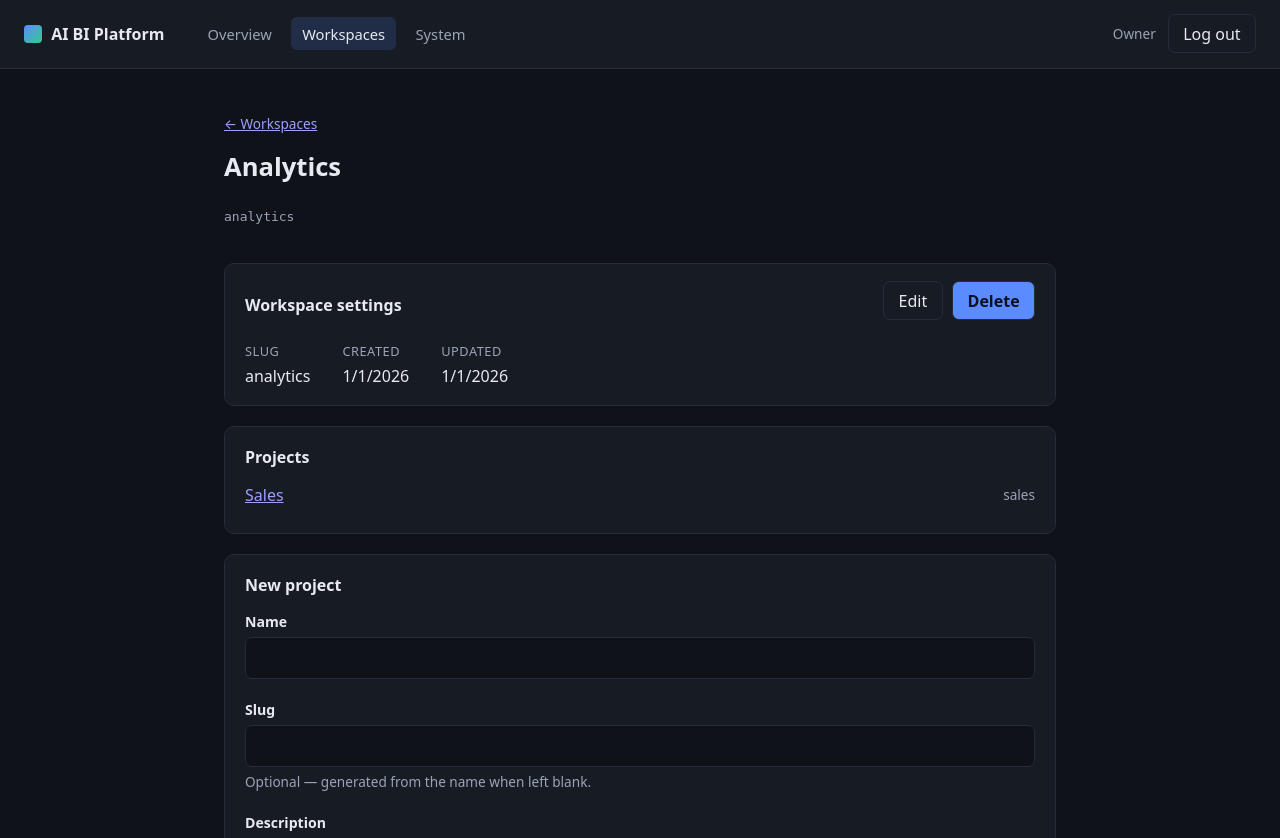
Test: WorkspaceDetailPage › updates the workspace
The width and height of the screenshot is (1280, 838).
Expected: the heading "Analytics" is shown, [224,149,341,184]
Click the button "Edit".
click(913, 300)  # box [883,281,943,320]
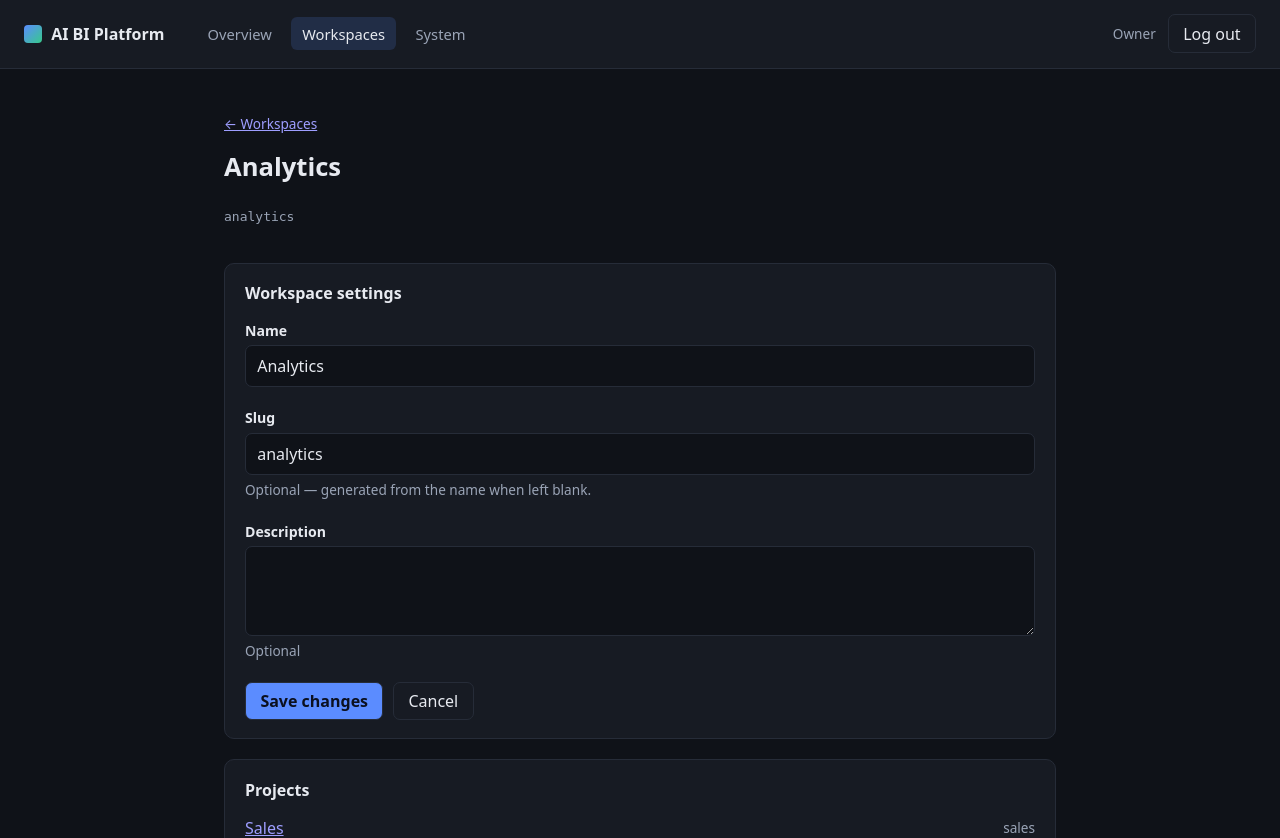
// The page also renders a "new project" form, so scope to the edit form.
Replace the text in the field labelled "Name" with "Renamed" at (640, 366), box [245,345,1035,387]
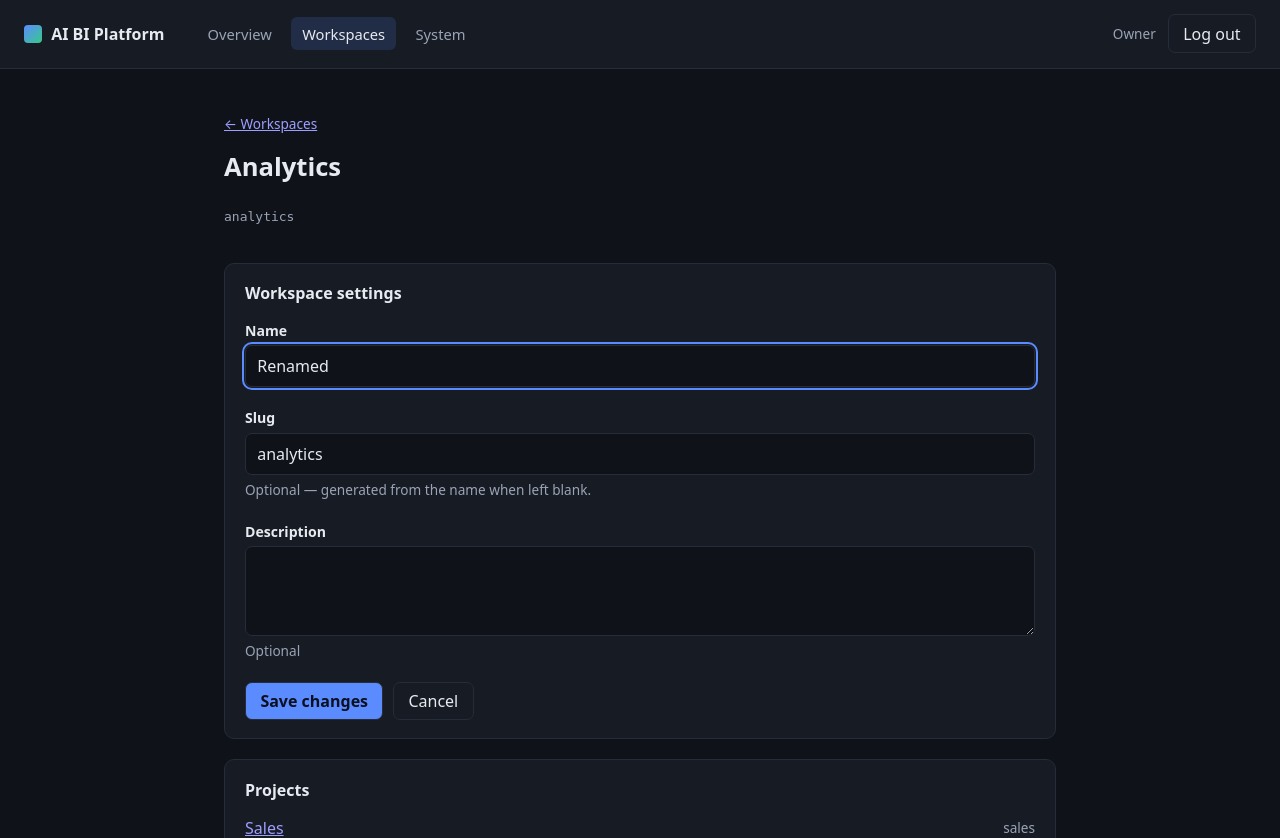
Click the button "Save changes".
click(314, 701)  # box [245,682,383,720]
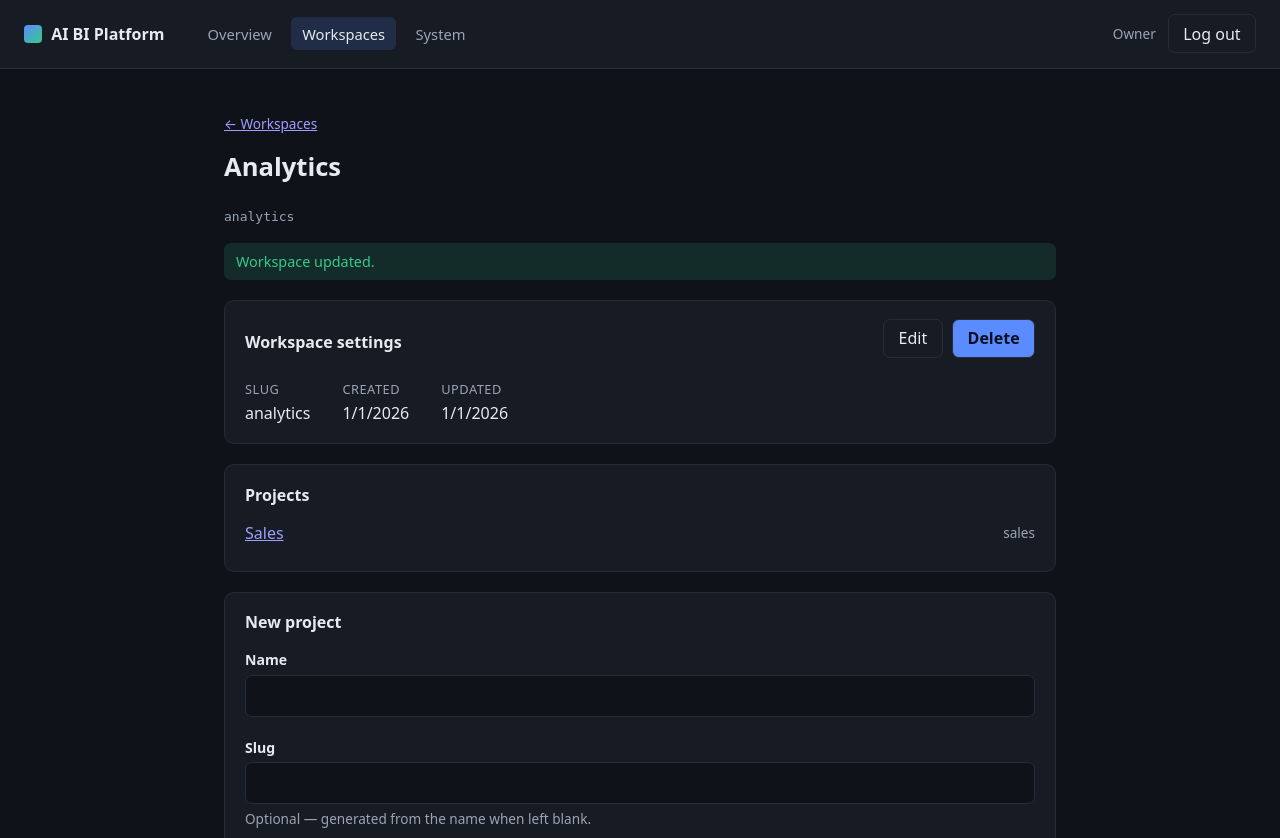
Result: the message with test id "success-message" reads "Workspace updated." at [236,252,375,270]
